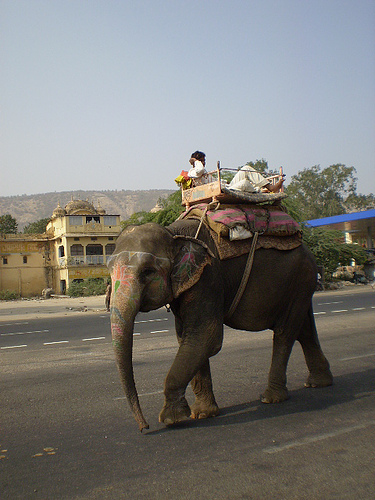elephant: (104, 196, 350, 432)
